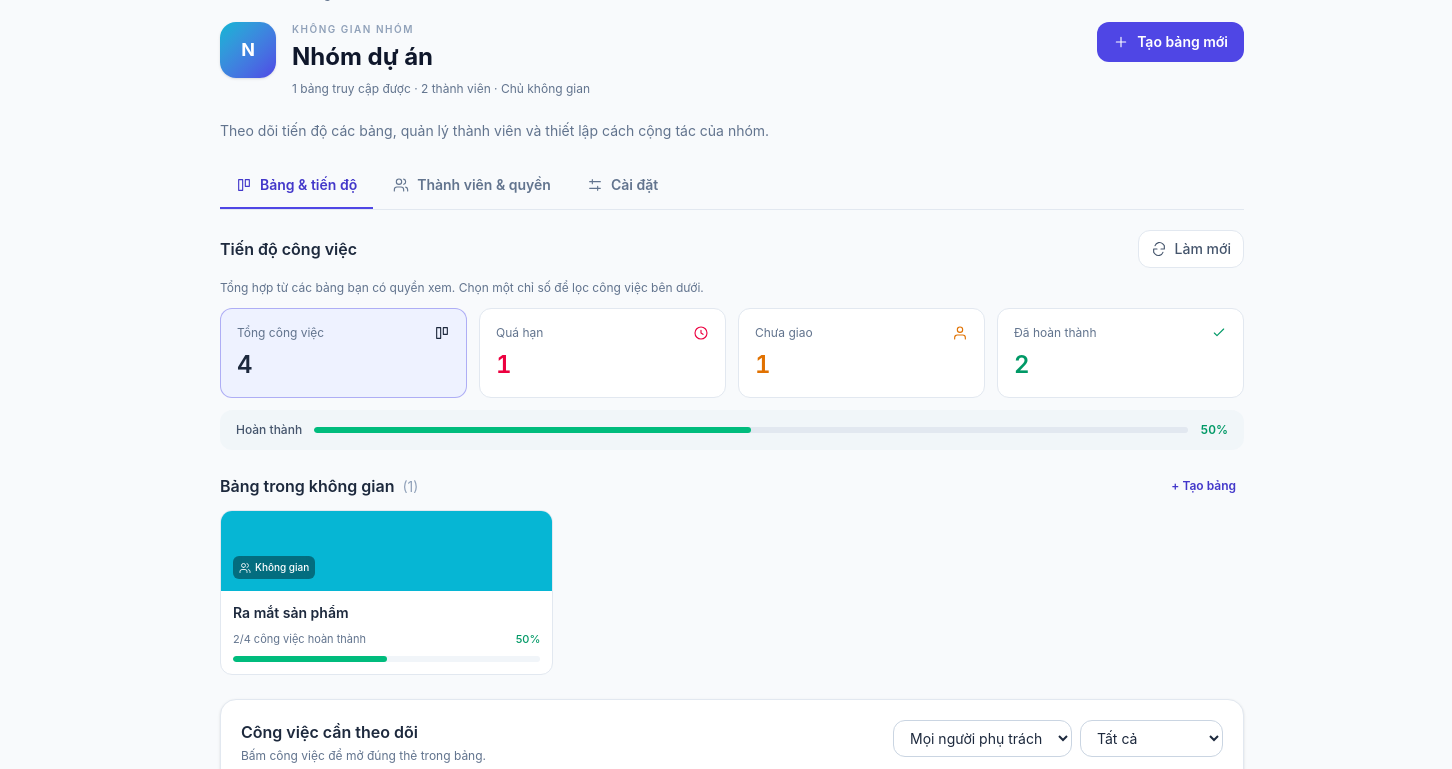
Scenario: Workspace management › ignores an older response after a newer filter has completed
Step 1. Click the button "Quá hạn 1" → {"x": 602, "y": 353}, box [479, 308, 726, 398]
(page scrolled)
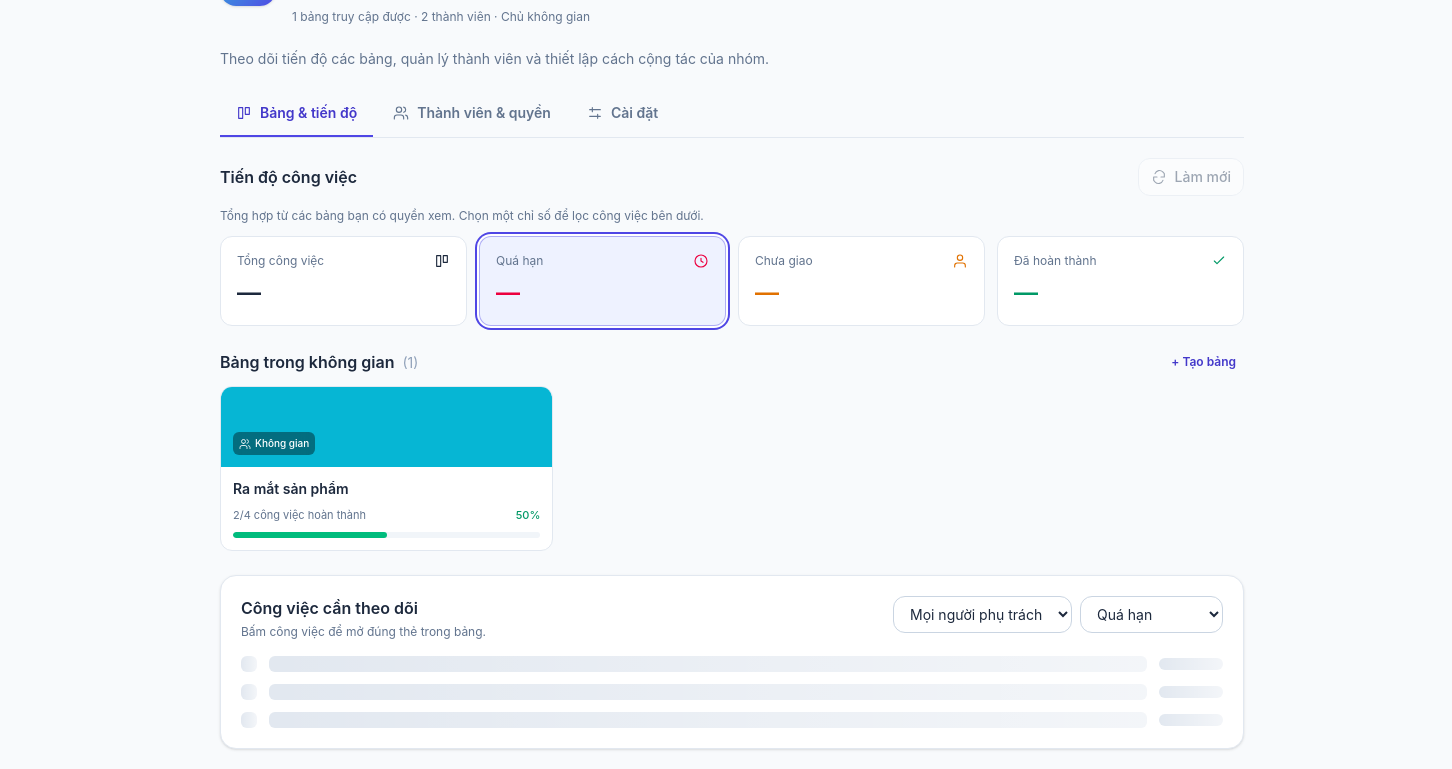
Step 2. Click the button "Đã hoàn thành —" → {"x": 1120, "y": 281}, box [997, 236, 1244, 326]
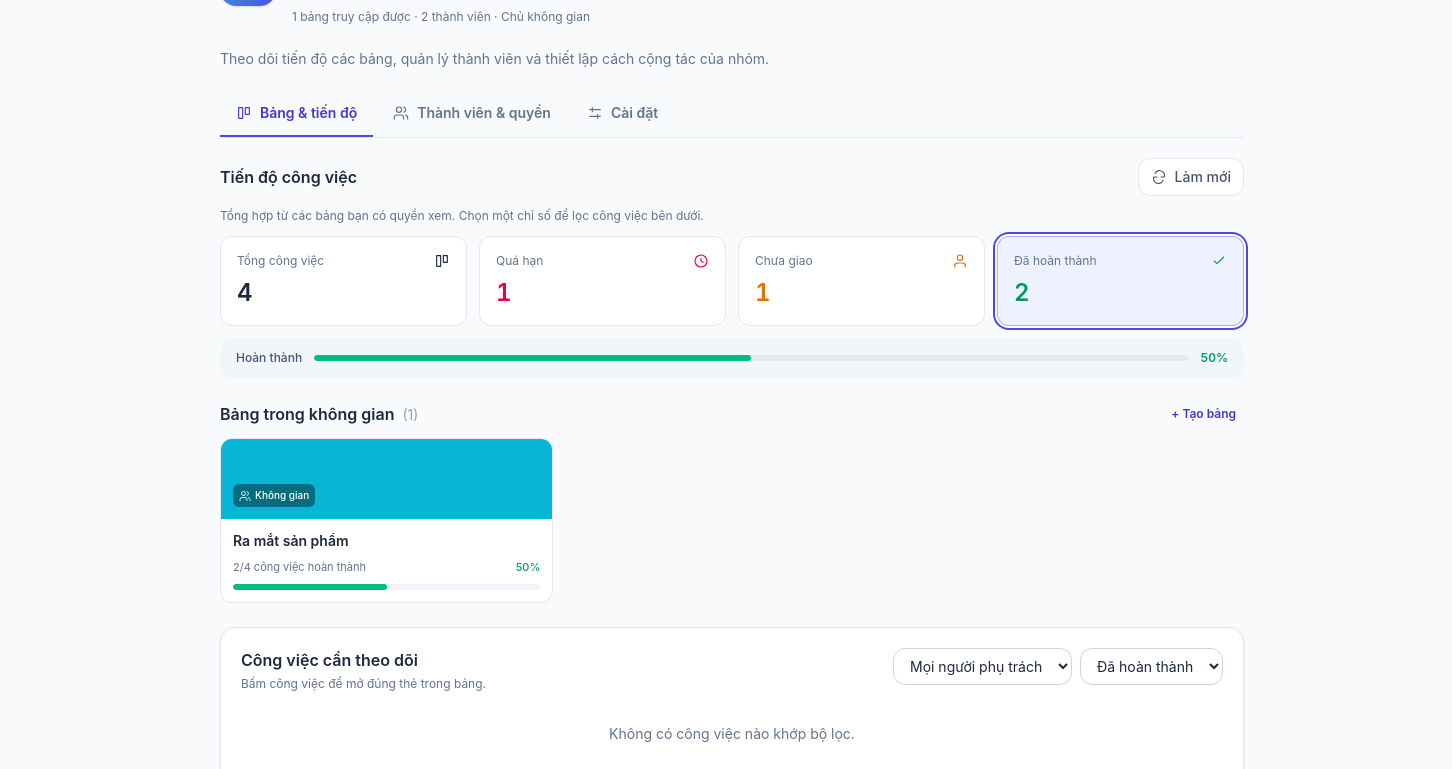
expect the text "Không có công việc nào khớp bộ lọc." is shown: met, box [609, 724, 855, 742]
expect the dropdown named "Trạng thái công việc" shows "Đã hoàn thành": met, box [1080, 648, 1223, 684]
